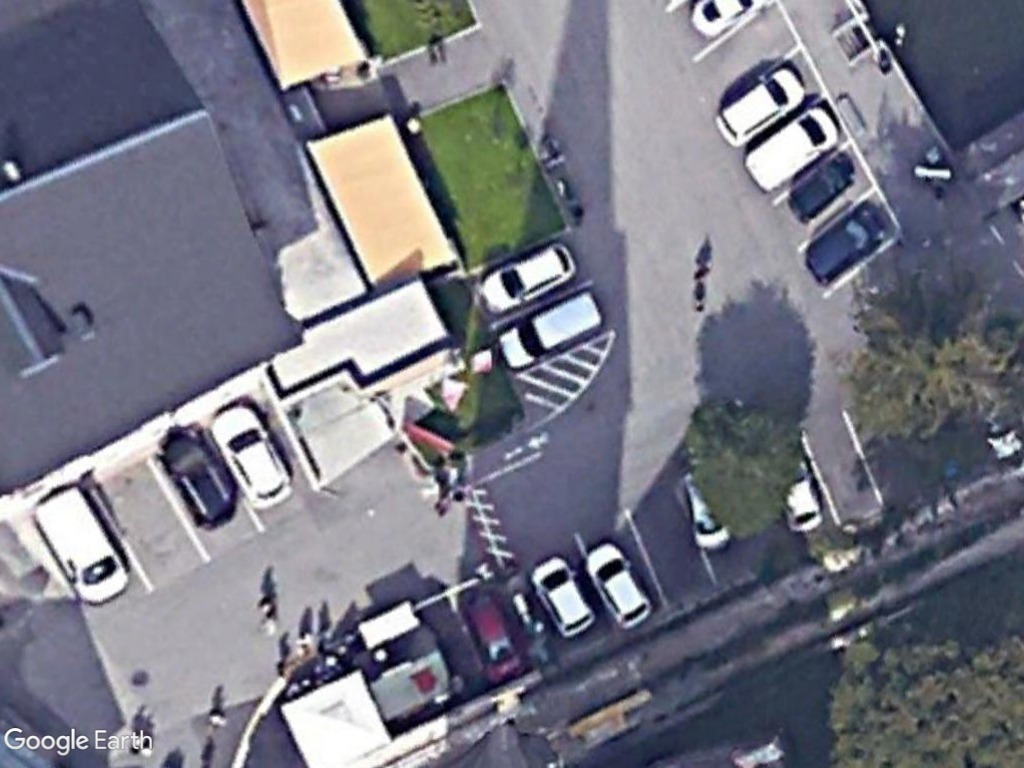car: (476, 233, 584, 322), (207, 397, 293, 508), (712, 59, 815, 150), (796, 198, 891, 294), (156, 424, 239, 532), (455, 584, 533, 689), (579, 537, 654, 632), (528, 548, 600, 645), (781, 150, 861, 227)
van: (27, 477, 137, 613), (493, 283, 607, 379), (737, 97, 842, 197)
